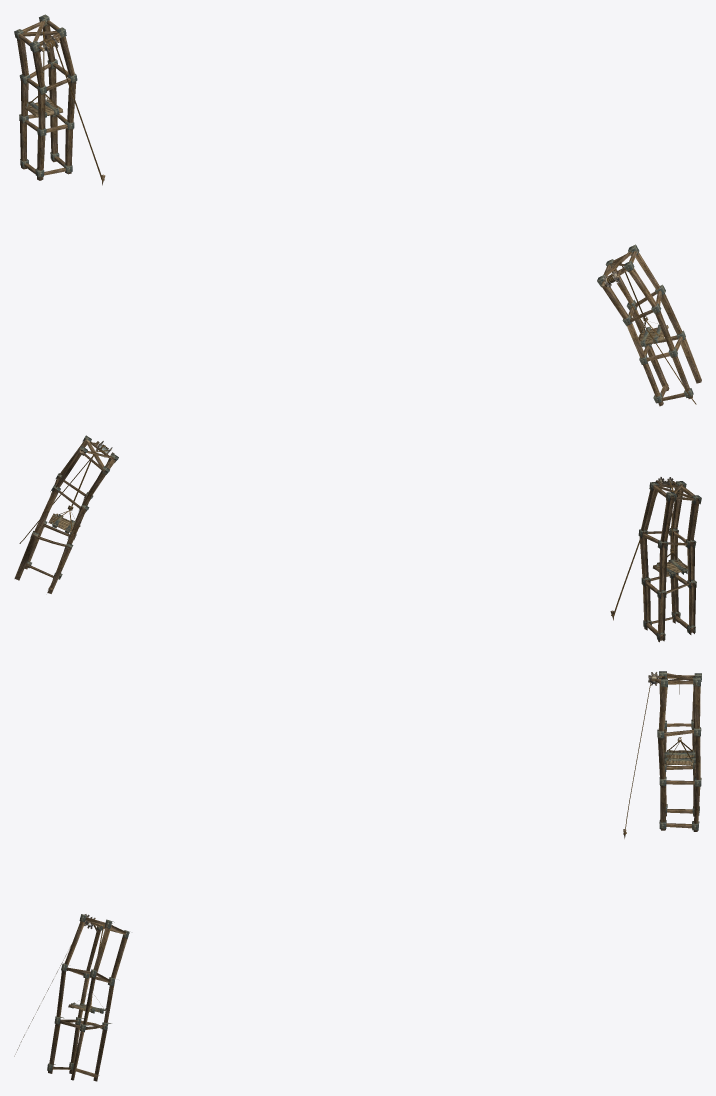
The model's file is S_Build_West062_A.FBX.
The picture shows the model from 3 angles, top to bottom: view 1: azimuth 30°, elevation 25°; view 2: azimuth 210°, elevation 25°; view 3: azimuth 270°, elevation 25°; orthographic projection.
Parts seen in each view (by area): view 1: S_Build_West062_001, S_Build_West062_002; view 2: S_Build_West062_001, S_Build_West062_002; view 3: S_Build_West062_001, S_Build_West062_002.
Boxes of the visible parts, bbox=[...] form: S_Build_West062_001: bbox=[14, 14, 105, 185]; S_Build_West062_002: bbox=[597, 244, 701, 406]; S_Build_West062_001: bbox=[610, 477, 701, 642]; S_Build_West062_002: bbox=[14, 435, 118, 593]; S_Build_West062_001: bbox=[623, 671, 701, 838]; S_Build_West062_002: bbox=[14, 914, 129, 1081].
Bounding box in the file's own units: 2365 × 1422 × 3635.
